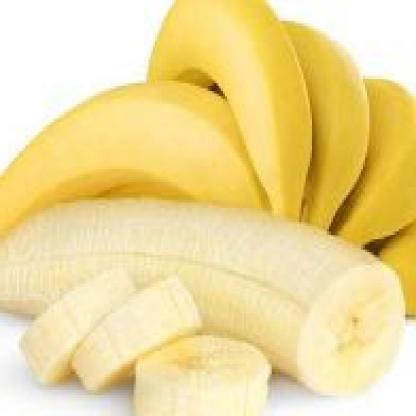banana: (4, 76, 287, 284), (143, 0, 323, 244), (255, 16, 382, 234), (318, 68, 416, 254)
